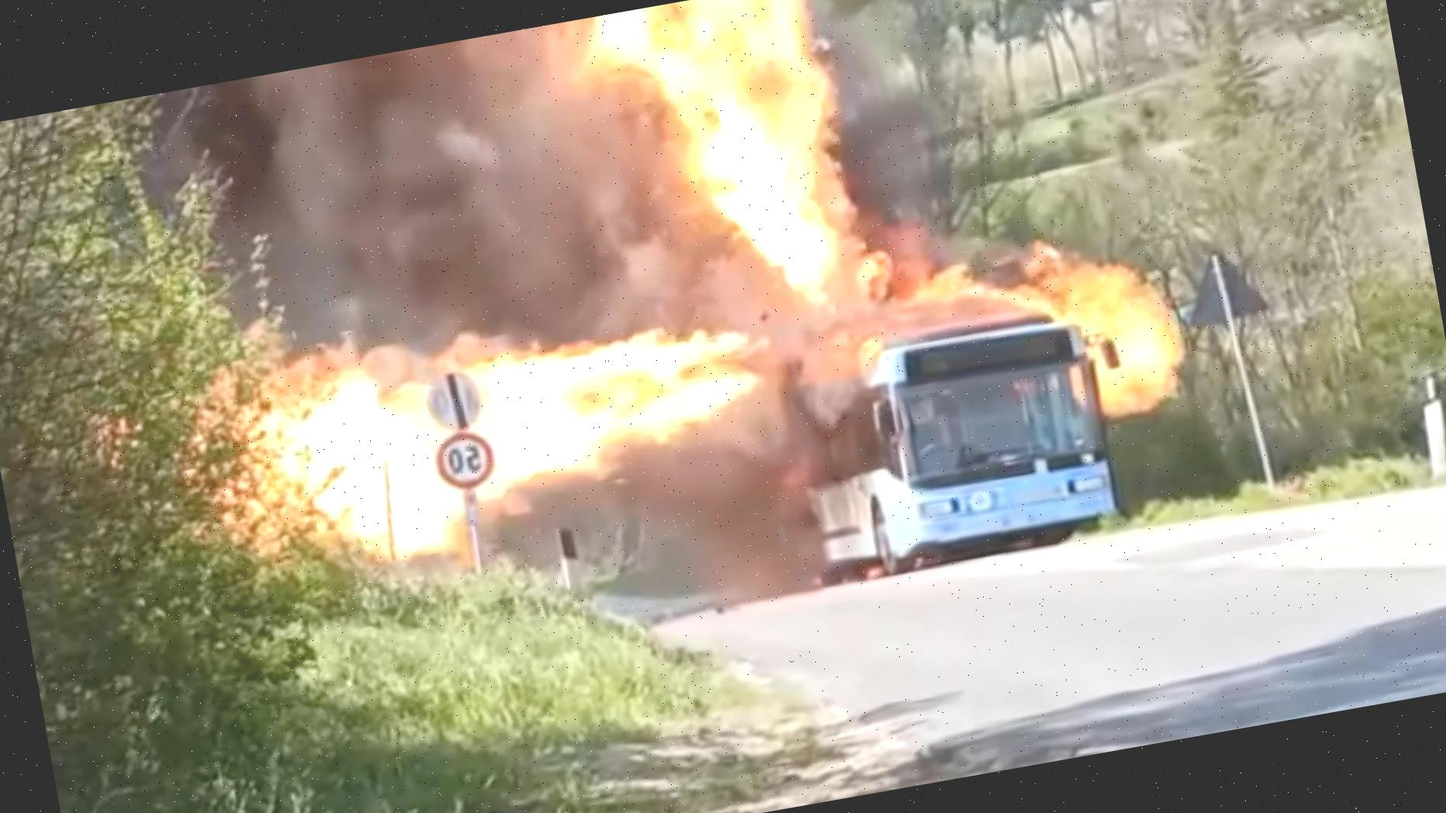fire: (37, 298, 787, 605), (540, 0, 907, 380), (982, 213, 1235, 421)
smoke: (150, 27, 581, 362), (553, 491, 801, 626)
